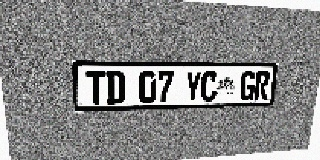0: (139, 71, 156, 103)
7: (156, 71, 174, 103)
C: (200, 71, 218, 102)
D: (106, 71, 125, 104)
G: (239, 71, 256, 101)
R: (254, 71, 270, 100)
T: (86, 71, 106, 105)
Y: (184, 71, 202, 102)
